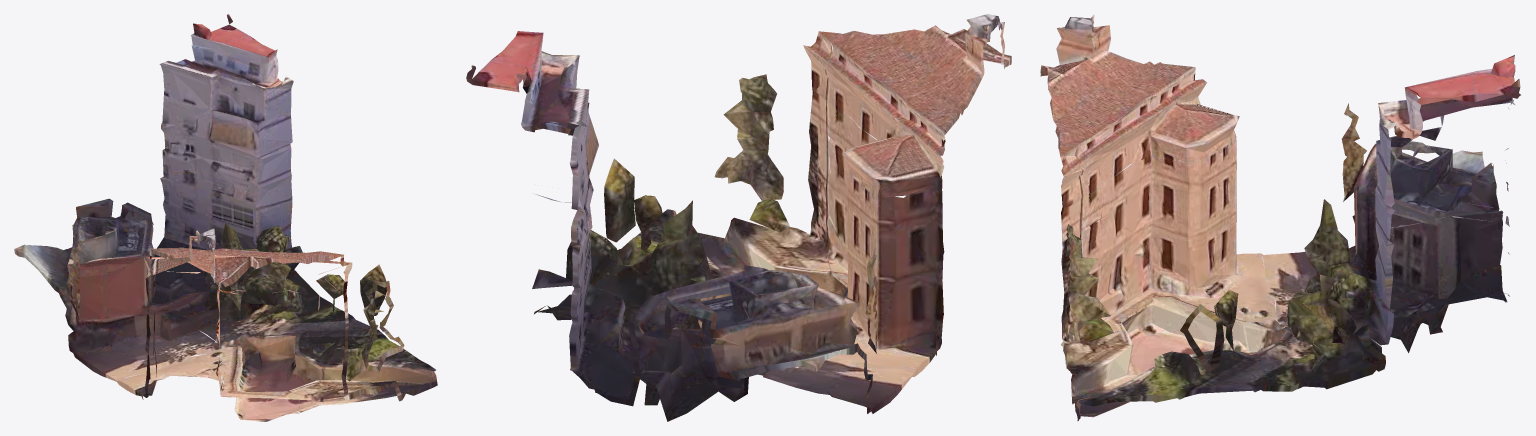
3 renders of one model, left to right at view 1: azimuth 30°, elevation 25°; view 2: azimuth 150°, elevation 25°; view 3: azimuth 270°, elevation 25°, orthographic. The views are drawn at different scales.
Visible parts, largest first — view 1: Mesh_0; view 2: Mesh_0; view 3: Mesh_0.
Boxes of the visible parts, box(x1,y1,x2,y2) form: Mesh_0: box(14, 14, 437, 421); Mesh_0: box(466, 14, 1011, 421); Mesh_0: box(1040, 14, 1520, 420).
Size of the model in its own units: 33.44 by 32.26 by 41.45.
1 material, 1 textured.
